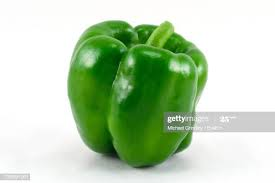bell pepper: (61, 12, 205, 173)
